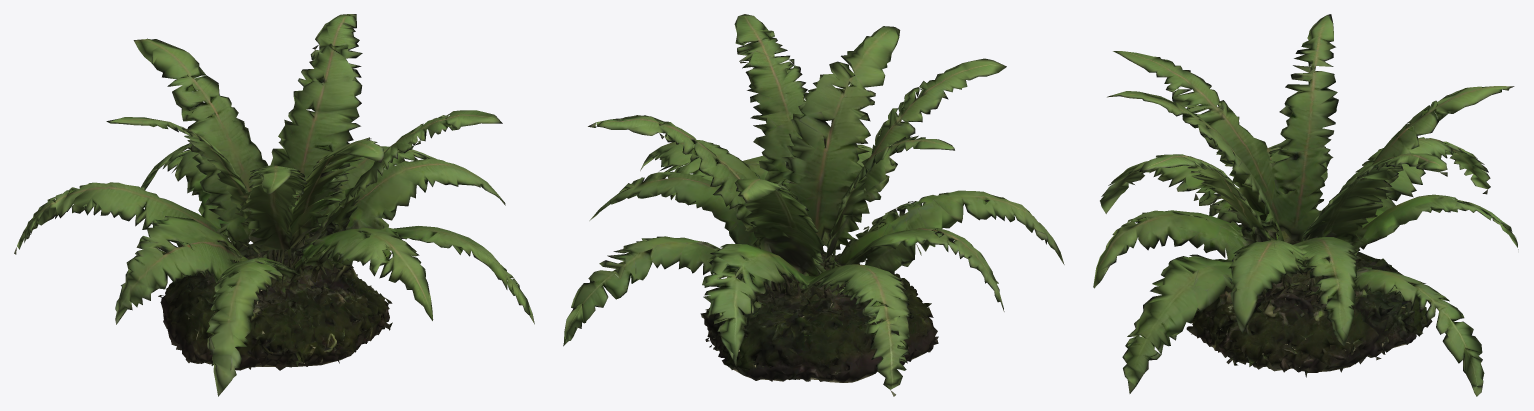
File: fern_sword_natural.glb
3 views of the same model, side by side, from view 1: azimuth 30°, elevation 25°; view 2: azimuth 150°, elevation 25°; view 3: azimuth 270°, elevation 25° (orthographic). The views are drawn at different scales.
Bounding box in the file's own units: 2 × 1.23 × 1.92.
1 material, 1 textured.
